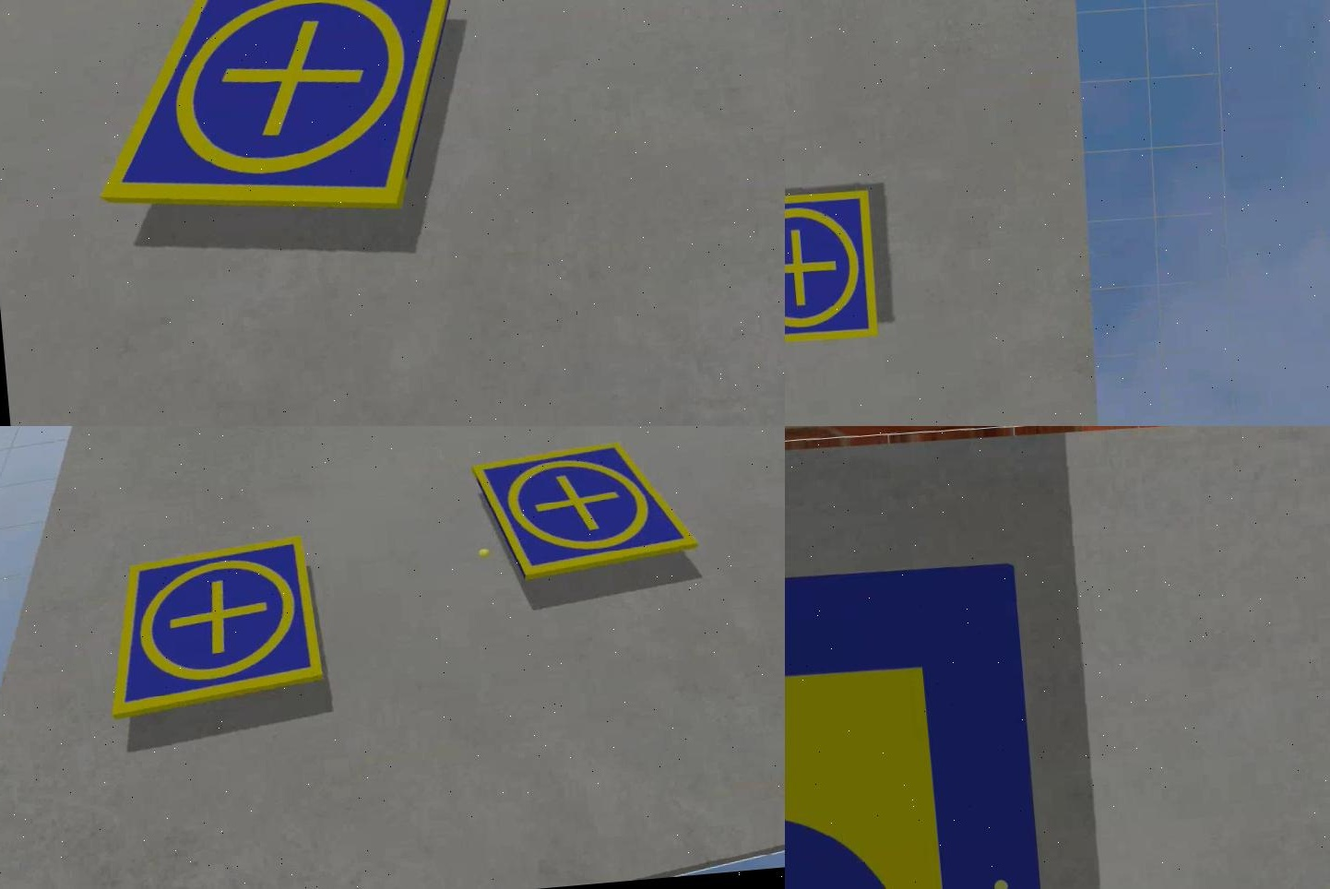large_base: (783, 550, 1059, 889)
small_base: (77, 1, 476, 236), (92, 531, 327, 720), (469, 432, 700, 584), (783, 184, 880, 350)
